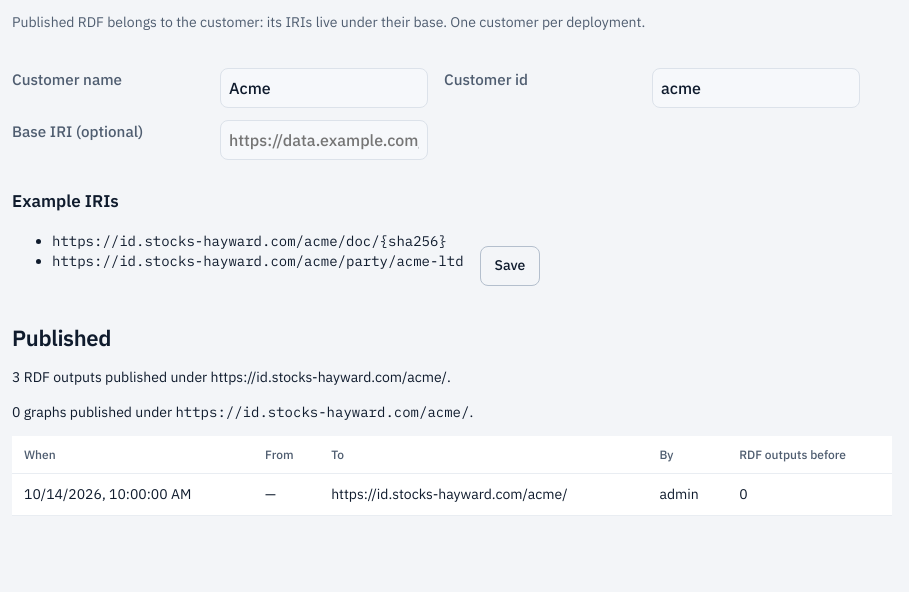
LinkedDataPage › refuses an unusable base IRI and warns about environment words
The width and height of the screenshot is (909, 592).
Type "http://data.acme.example/" into the field labelled "Base IRI (optional)" at (324,140), box x1=220 y1=120 x2=428 y2=160
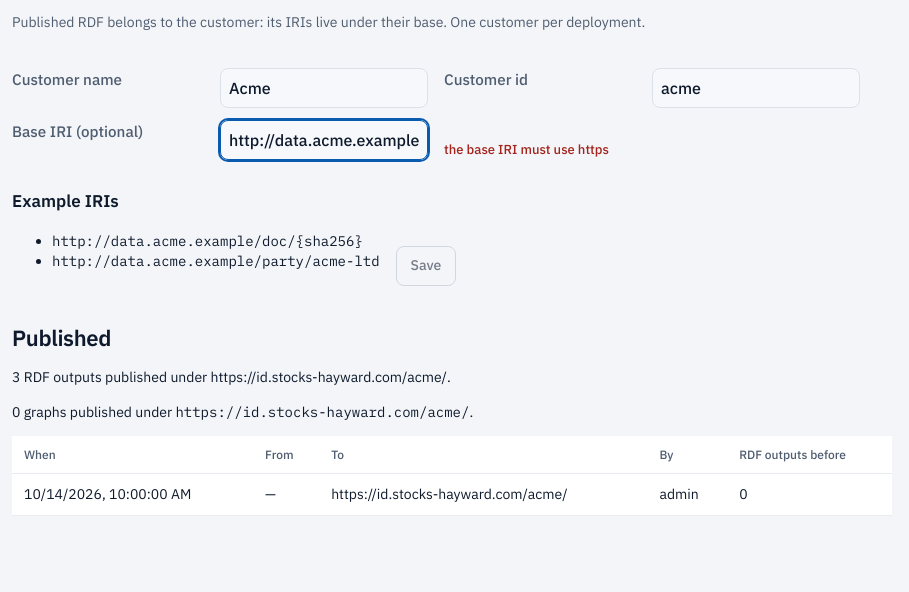
Now the text "the base IRI must use https" is shown, box x1=444 y1=142 x2=609 y2=160
Now the button "Save" is disabled, box x1=396 y1=246 x2=456 y2=286
Replace the text in the field labelled "Base IRI (optional)" with "https://staging.acme.example/" at (324,140), box x1=220 y1=120 x2=428 y2=160
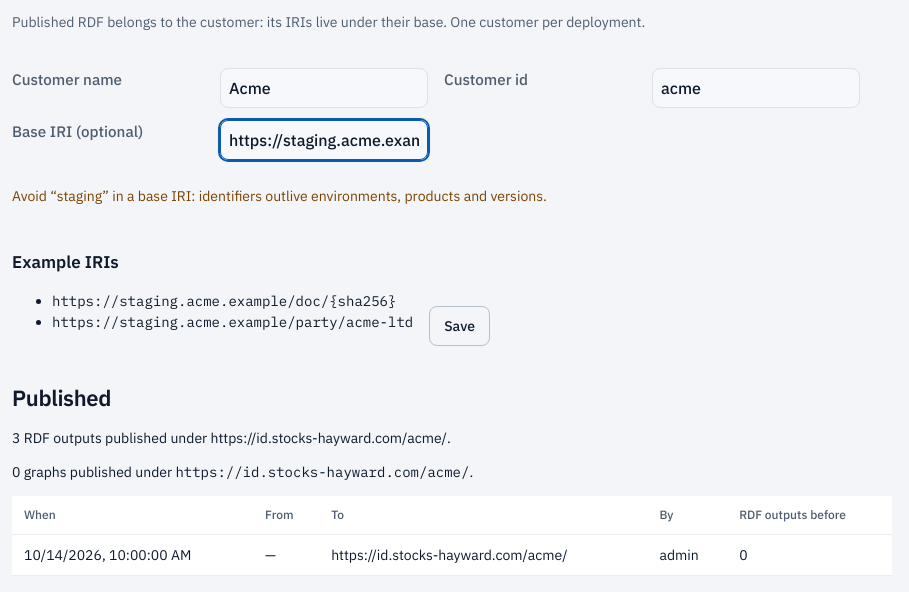
Now the button "Save" is enabled, box x1=429 y1=306 x2=490 y2=346
Now the text "Avoid “staging”" is shown, box x1=12 y1=186 x2=547 y2=207
